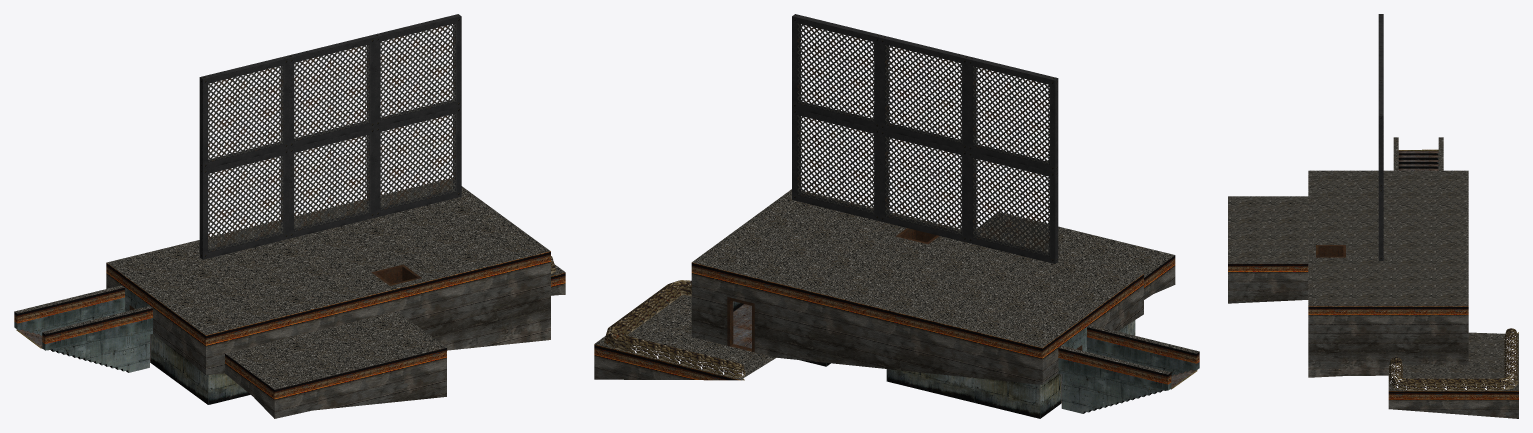
Rendered from RadarStation.dae.
The picture shows the model from 3 angles, left to right: view 1: azimuth 30°, elevation 25°; view 2: azimuth 150°, elevation 25°; view 3: azimuth 270°, elevation 25°; orthographic projection. The views are drawn at different scales.
Parts seen in each view (by area): view 1: BSP.007; view 2: BSP.007; view 3: BSP.007.
Boxes of the visible parts, x1,y1,x2,y2 form: BSP.007: (14, 14, 565, 418); BSP.007: (594, 14, 1199, 418); BSP.007: (1228, 14, 1518, 418).
Bounding box in the file's own units: 28.87 × 17.4 × 17.16.
Materials: 10 (10 with a texture image).
